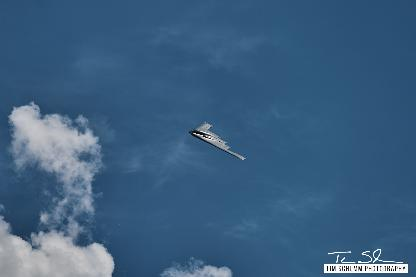B1: (187, 122, 245, 159)
